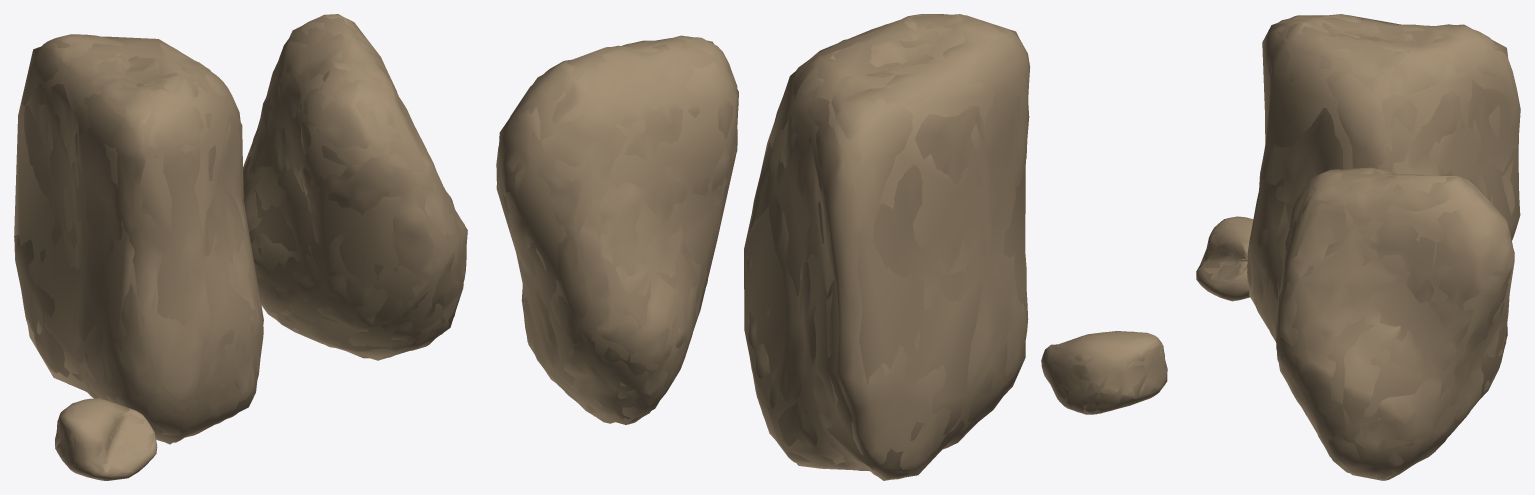
Rendered from rock_formation_3.glb.
The picture shows the model from 3 angles, left to right: view 1: azimuth 30°, elevation 25°; view 2: azimuth 150°, elevation 25°; view 3: azimuth 270°, elevation 25°; orthographic projection. The views are drawn at different scales.
Visible parts, largest first — view 1: Rock_0, Rock_0_Far, Rock_1, Rock_1_Far, Rock_2, Rock_2_Far; view 2: Rock_0, Rock_0_Far, Rock_1, Rock_1_Far, Rock_2, Rock_2_Far; view 3: Rock_1, Rock_0, Rock_0_Far, Rock_1_Far, Rock_2, Rock_2_Far.
Part boxes in pixels (left/top/right/bottom): Rock_0: left=14, top=34, right=263, bottom=442; Rock_0_Far: left=14, top=36, right=263, bottom=444; Rock_1: left=243, top=14, right=466, bottom=358; Rock_1_Far: left=243, top=16, right=467, bottom=360; Rock_2: left=55, top=398, right=157, bottom=480; Rock_2_Far: left=55, top=398, right=157, bottom=480; Rock_0: left=747, top=14, right=1030, bottom=479; Rock_0_Far: left=744, top=15, right=1026, bottom=480; Rock_1: left=496, top=35, right=738, bottom=424; Rock_1_Far: left=496, top=36, right=738, bottom=424; Rock_2: left=1041, top=331, right=1167, bottom=414; Rock_2_Far: left=1041, top=331, right=1167, bottom=414; Rock_1: left=1277, top=168, right=1514, bottom=480; Rock_0: left=1247, top=14, right=1520, bottom=341; Rock_0_Far: left=1249, top=15, right=1519, bottom=328; Rock_1_Far: left=1275, top=167, right=1514, bottom=480; Rock_2: left=1196, top=216, right=1253, bottom=301; Rock_2_Far: left=1196, top=216, right=1251, bottom=301.
Size of the model in its own units: 9.13 by 7.03 by 6.04.
